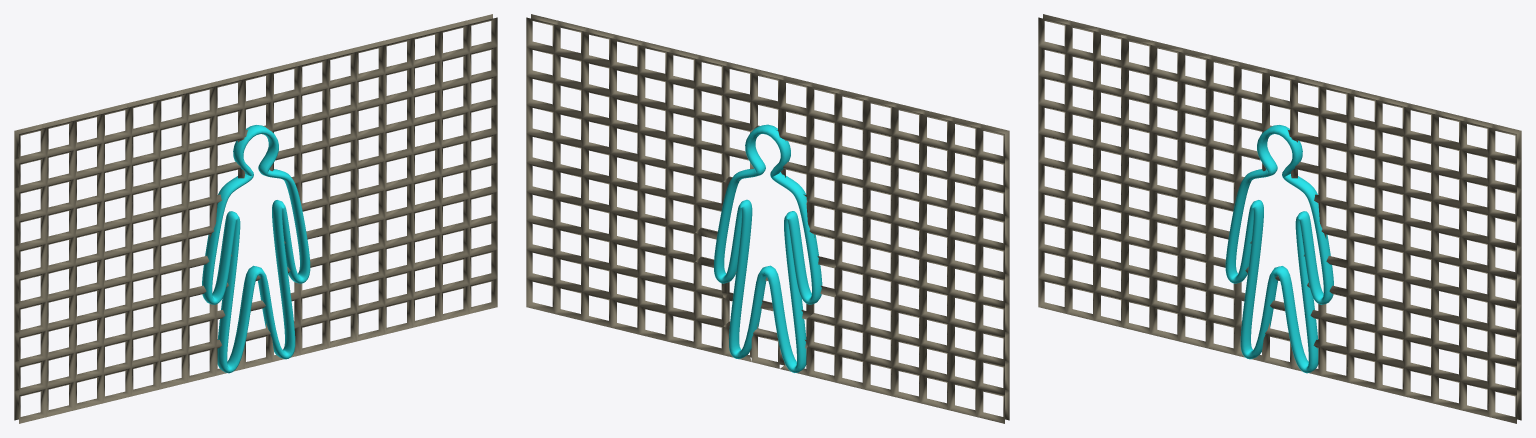
Rendered from [poo]_St2_Grid_11.fbx.
3 renders of one model, left to right at view 1: azimuth 30°, elevation 25°; view 2: azimuth 150°, elevation 25°; view 3: azimuth 330°, elevation 25°, orthographic.
Parts seen in each view (by area): view 1: Grid_11; view 2: Grid_11; view 3: Grid_11.
Boxes of the visible parts, x1,y1,x2,y2 form: Grid_11: [14, 14, 497, 423]; Grid_11: [526, 14, 1009, 423]; Grid_11: [1038, 14, 1521, 423].
Bounding box in the file's own units: 1604 × 931 × 45.72.
